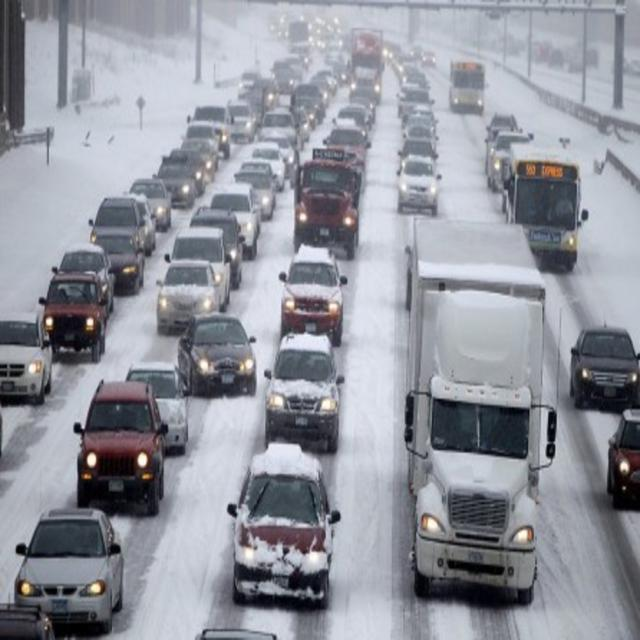bus: (408, 275, 550, 603), (291, 152, 358, 253), (349, 28, 382, 103)
car: (233, 453, 337, 604), (5, 509, 126, 636), (76, 383, 166, 516), (264, 334, 342, 453), (177, 314, 257, 400), (279, 248, 345, 349), (125, 361, 192, 456), (570, 327, 638, 412), (44, 272, 108, 358), (156, 261, 220, 335), (2, 313, 54, 401), (55, 247, 113, 318), (192, 203, 241, 279), (173, 228, 226, 296), (605, 411, 639, 509), (212, 188, 256, 256), (96, 232, 145, 291), (396, 156, 442, 216), (96, 199, 146, 246), (128, 180, 172, 232), (494, 132, 528, 192), (327, 126, 368, 174), (235, 165, 271, 216), (260, 110, 308, 146), (252, 138, 284, 184), (336, 103, 372, 142), (172, 146, 205, 188), (195, 106, 230, 145), (157, 155, 191, 191), (188, 120, 218, 159), (403, 116, 435, 152), (295, 82, 323, 120), (185, 138, 214, 174), (406, 90, 434, 126), (229, 102, 251, 136), (489, 112, 515, 140), (293, 101, 316, 132), (272, 61, 294, 93), (237, 68, 261, 94), (396, 86, 415, 115), (292, 48, 309, 70), (318, 68, 334, 90), (422, 50, 436, 66)
truck: (508, 152, 582, 271), (448, 59, 486, 113)
